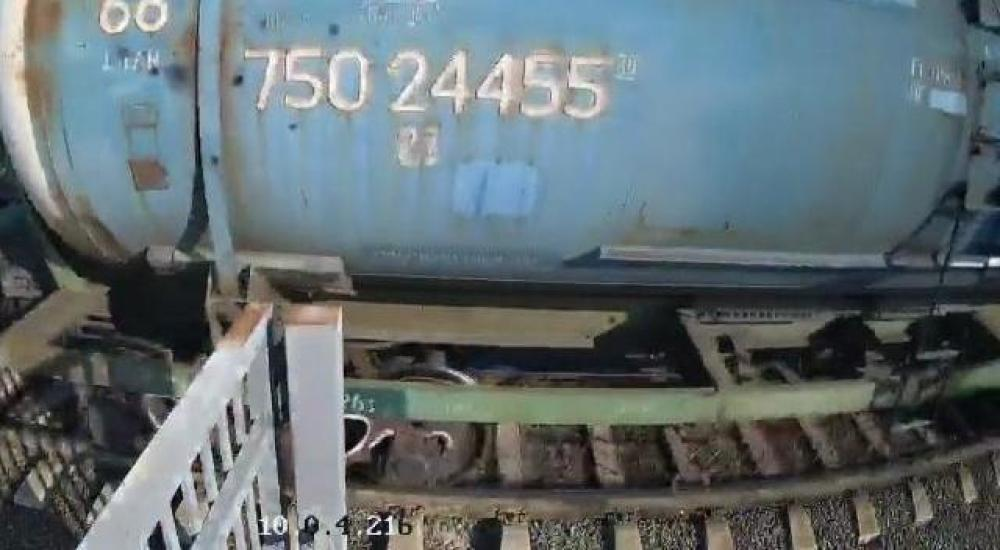Wagon-number: (242, 45, 609, 124)
